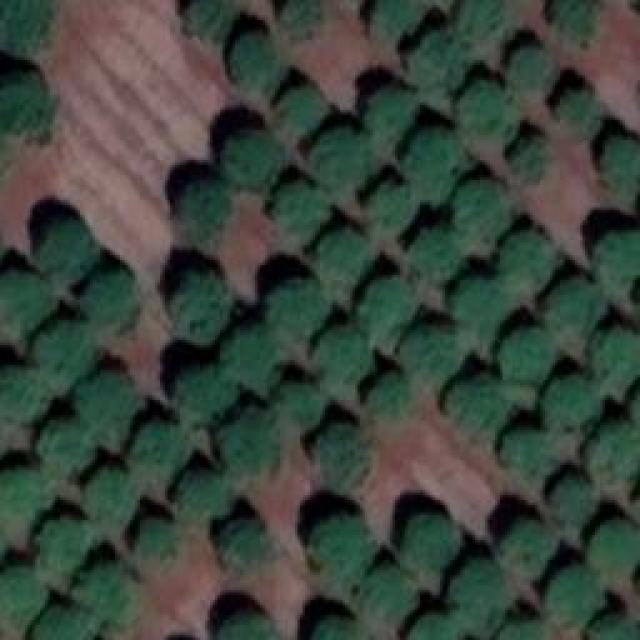Tree: (75, 372, 140, 450), (405, 130, 468, 203), (450, 563, 510, 638), (312, 518, 370, 593), (313, 128, 378, 193), (35, 325, 95, 393), (450, 180, 510, 248), (500, 232, 555, 300), (77, 568, 135, 631), (268, 282, 328, 340), (225, 413, 280, 476), (447, 382, 505, 440), (547, 277, 605, 335), (545, 567, 603, 625), (230, 35, 283, 98), (315, 425, 370, 485), (358, 570, 418, 625), (0, 75, 50, 140), (175, 278, 225, 343), (0, 275, 55, 333), (402, 328, 460, 383), (457, 83, 515, 138), (585, 422, 640, 480), (223, 335, 286, 385), (175, 370, 235, 420), (595, 333, 640, 398), (38, 223, 91, 278), (315, 330, 370, 383), (500, 520, 555, 573), (413, 35, 463, 93), (592, 233, 640, 293), (228, 135, 281, 188), (405, 515, 458, 568), (180, 187, 228, 245), (500, 330, 555, 380), (0, 0, 52, 52), (275, 188, 325, 241), (360, 278, 413, 328), (548, 378, 601, 428), (135, 425, 183, 480), (0, 368, 48, 421), (85, 273, 133, 326), (40, 520, 90, 570), (503, 433, 553, 483), (318, 233, 368, 283), (448, 280, 503, 325), (40, 423, 88, 473), (410, 230, 460, 278), (277, 88, 325, 138), (590, 520, 640, 568), (85, 473, 138, 518), (0, 570, 42, 625), (0, 470, 48, 518), (367, 90, 415, 138), (602, 138, 640, 198), (177, 475, 225, 518), (507, 48, 555, 91), (275, 385, 325, 425), (460, 0, 510, 40), (370, 0, 417, 42), (223, 520, 266, 565), (365, 188, 413, 228), (553, 480, 596, 523), (560, 90, 598, 138), (32, 607, 87, 640), (368, 375, 411, 415), (188, 0, 233, 38), (555, 0, 595, 42), (220, 615, 278, 640), (282, 0, 320, 38), (587, 615, 640, 640), (407, 617, 464, 640), (138, 523, 173, 556), (515, 140, 543, 178), (313, 620, 366, 640), (500, 620, 540, 640)
